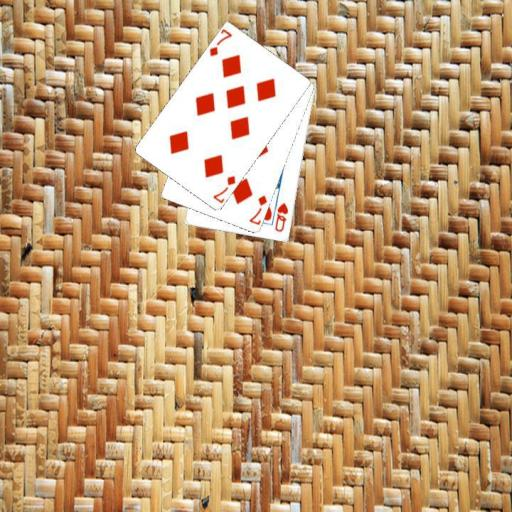7D: (210, 173, 237, 204), (206, 27, 233, 58), (246, 192, 269, 226)
QH: (272, 200, 290, 233)
